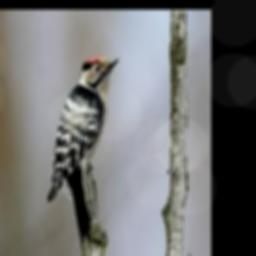Woodpecker: (47, 55, 119, 240)
